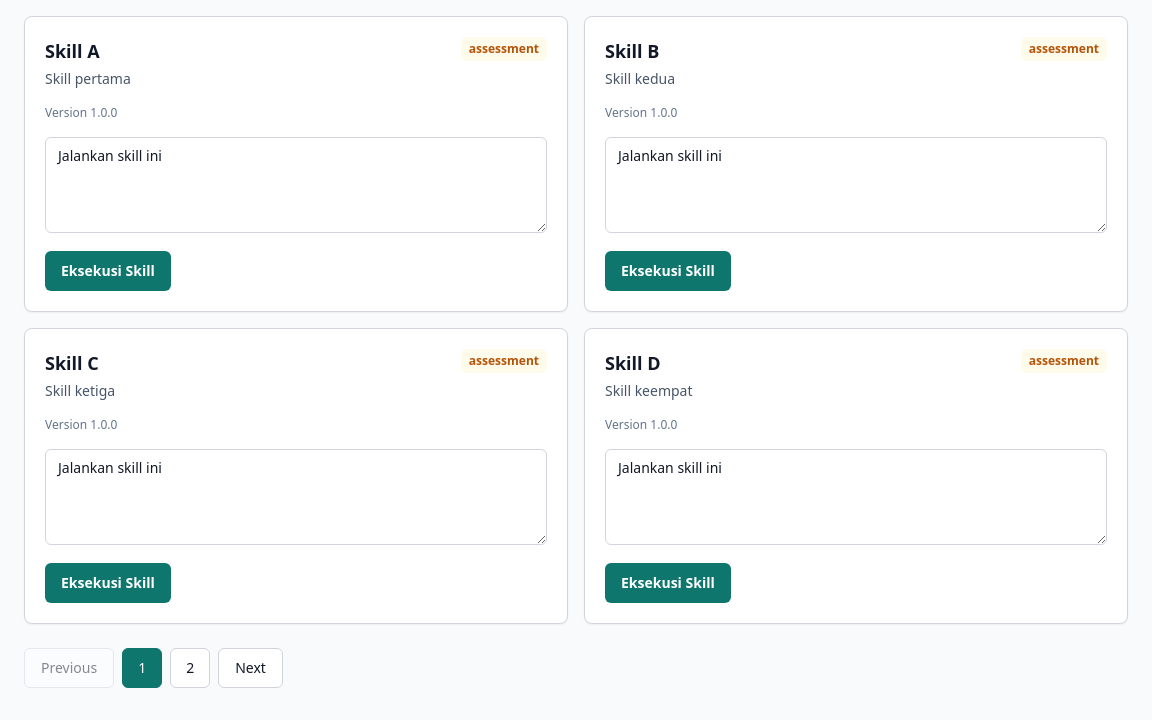
it: DashboardClient › renders fetched skills
(page scrolled)
Expected: the heading "Skill A" is shown, [45,39,100,63]
Expected: the heading "Skill D" is shown, [605,351,661,375]
Click the button "2". click: point(190, 668)
box: [170,648,210,688]
(page scrolled)
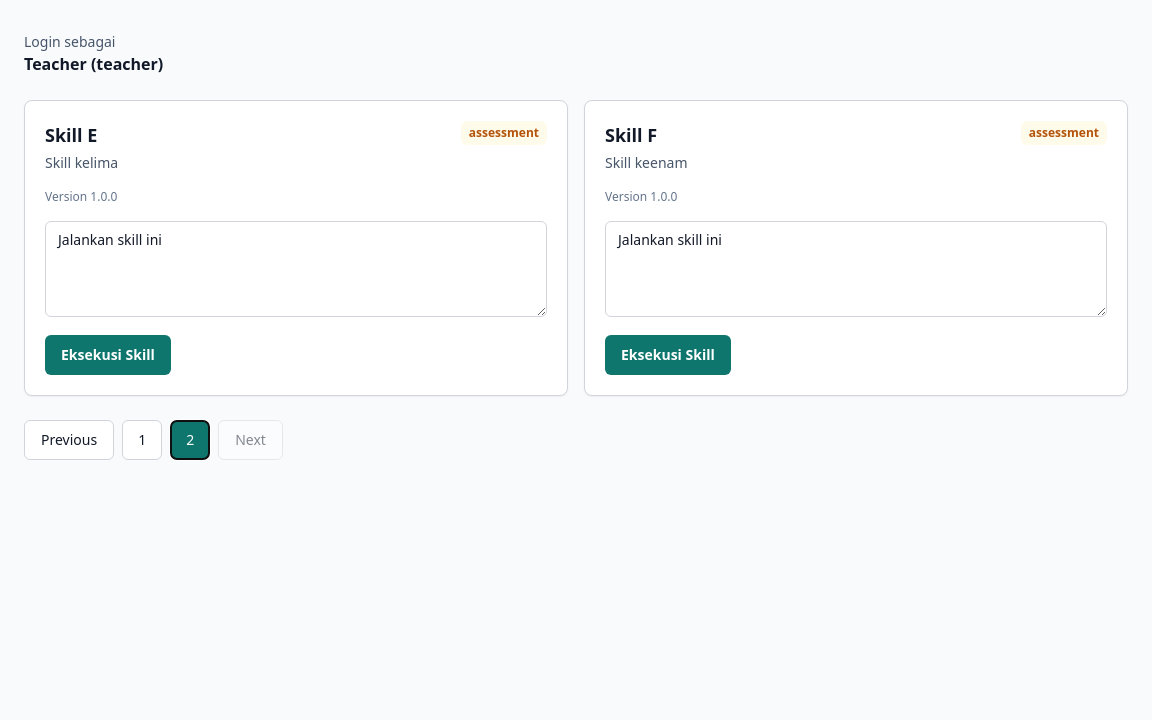
Expected: the heading "Skill E" is shown, [45,123,97,147]
Expected: the heading "Skill F" is shown, [605,123,657,147]
